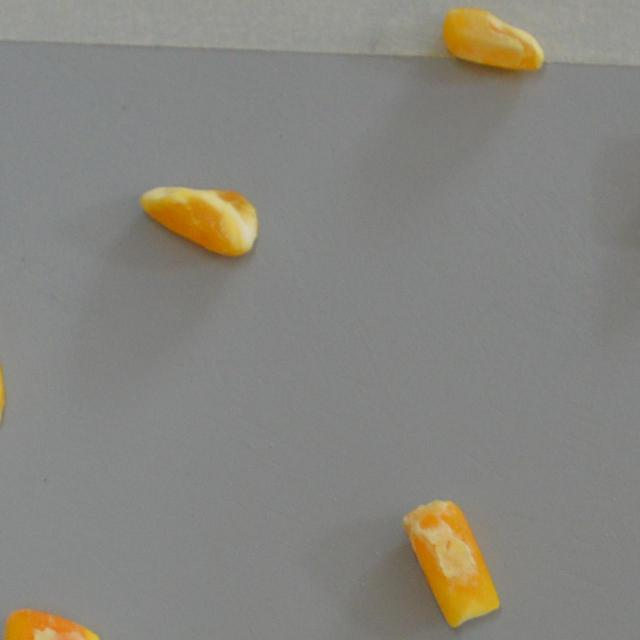pelicula: (399, 496, 502, 631), (139, 184, 260, 258), (438, 9, 544, 72), (2, 605, 104, 640)
